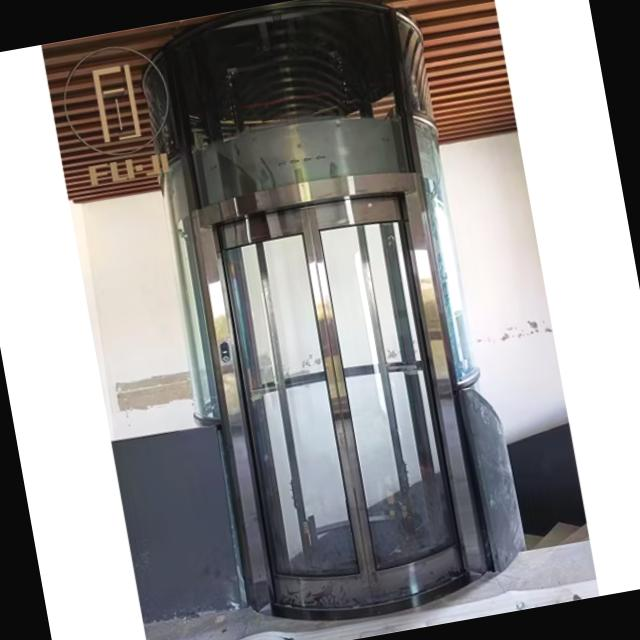elevator: (182, 150, 513, 636)
